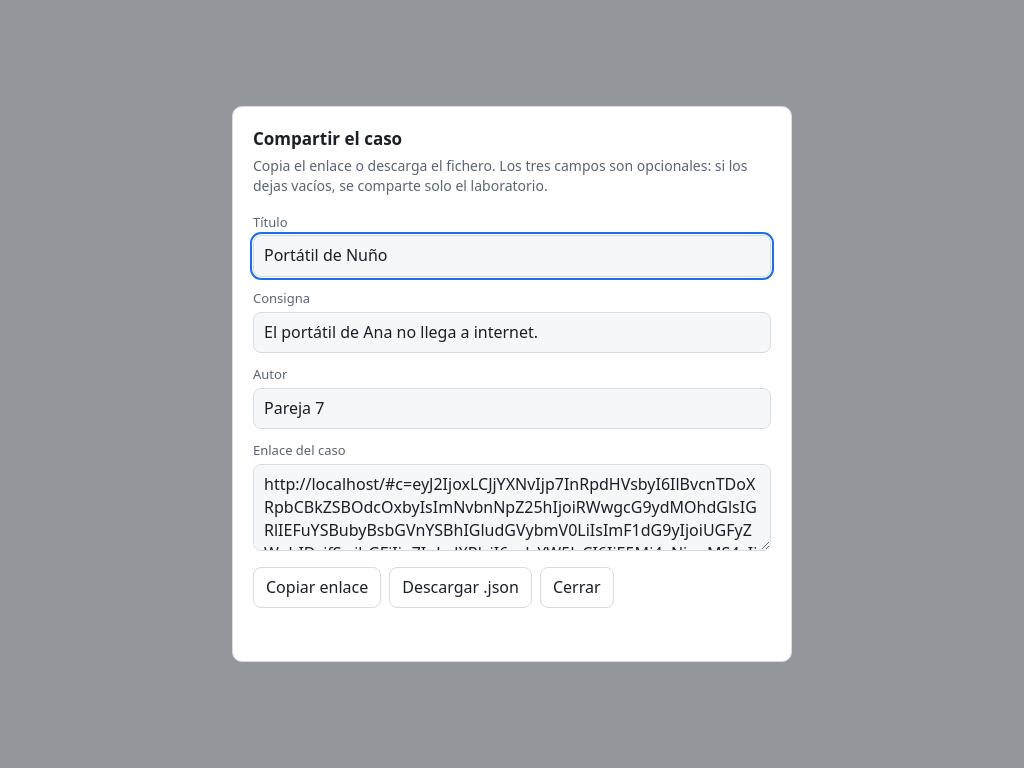
Test case: ExportDialog: copying tells the truth (S52) › confirms the copy when the clipboard API resolves
Click the button "Copiar enlace" at (317, 588), box [253,567,381,608]
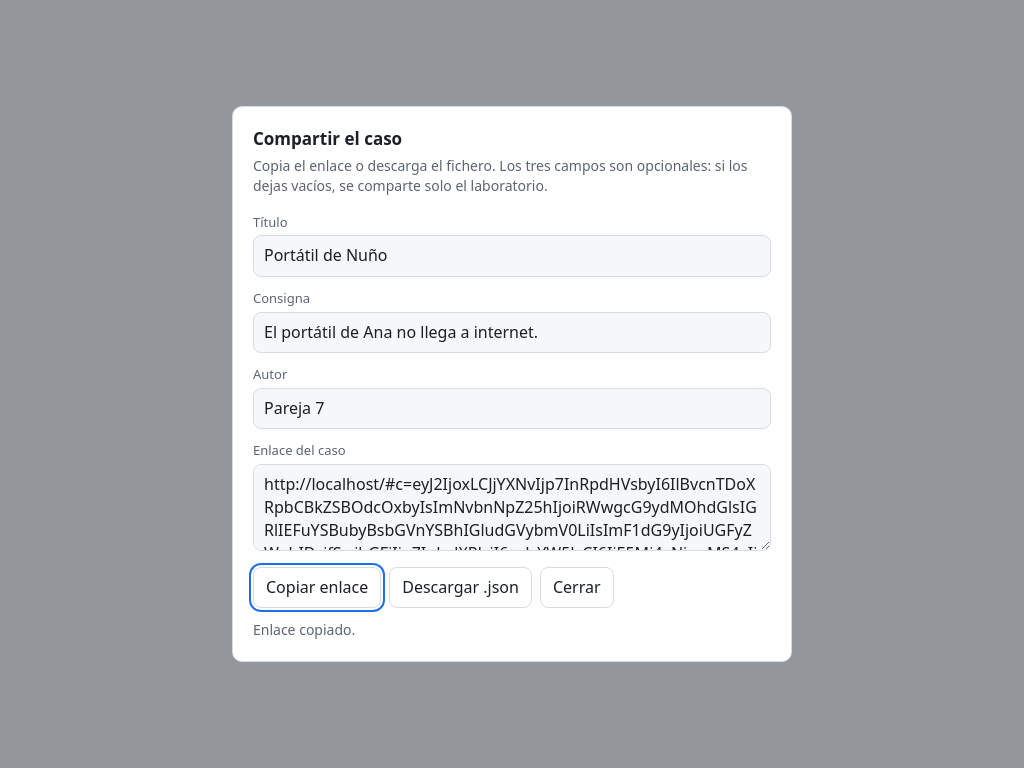
Expected: the message reads "Enlace copiado.", [253,620,355,639]
